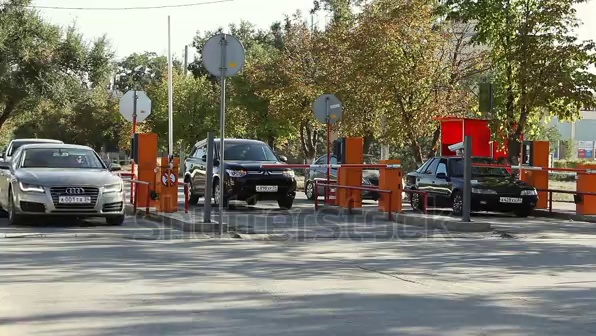licenseplate: (54, 192, 95, 211), (495, 189, 525, 212), (252, 179, 287, 196)
